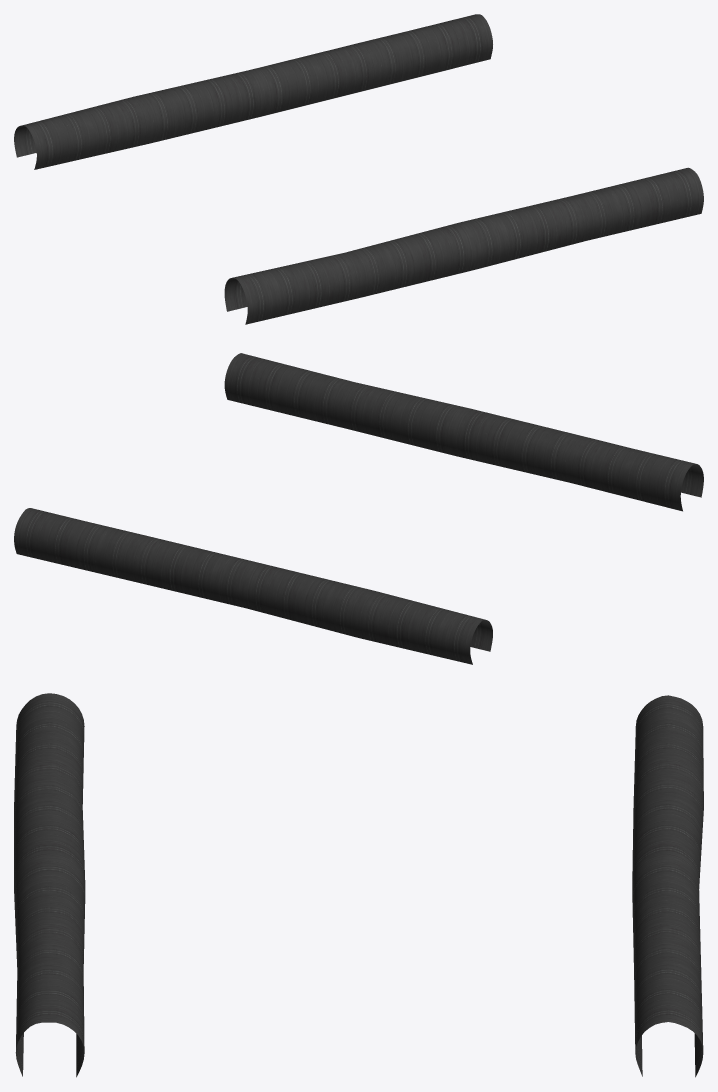
The model's file is BlackEdge_complex.dae.
3 renders of one model, top to bottom at view 1: azimuth 30°, elevation 25°; view 2: azimuth 150°, elevation 25°; view 3: azimuth 270°, elevation 25°, orthographic. The views are drawn at different scales.
Parts seen in each view (by area): view 1: BlackEdge; view 2: BlackEdge; view 3: BlackEdge.
Boxes of the visible parts, <box> form: BlackEdge: <box>14,14,703,324</box>; BlackEdge: <box>14,353,703,664</box>; BlackEdge: <box>14,693,703,1077</box>.
Size of the model in its own units: 1 by 0.8918 by 0.0828.
Materials: 1 (1 with a texture image).
